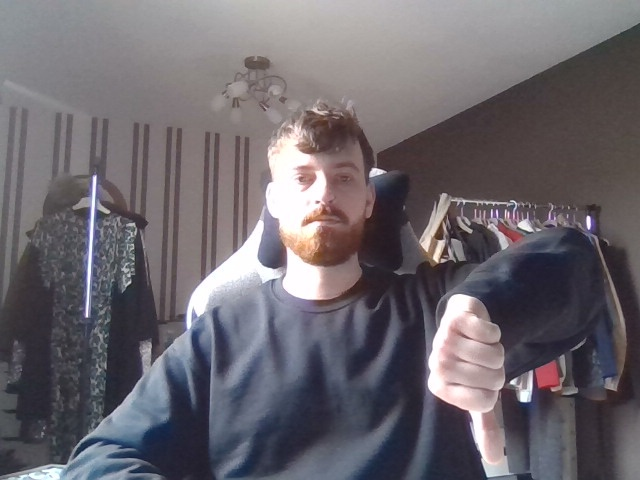Thumbs Down: (418, 277, 515, 419)
